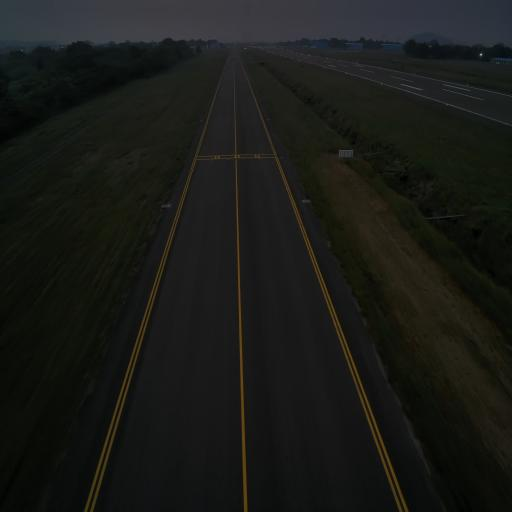on: (168, 200, 170, 204), (304, 196, 305, 201)
